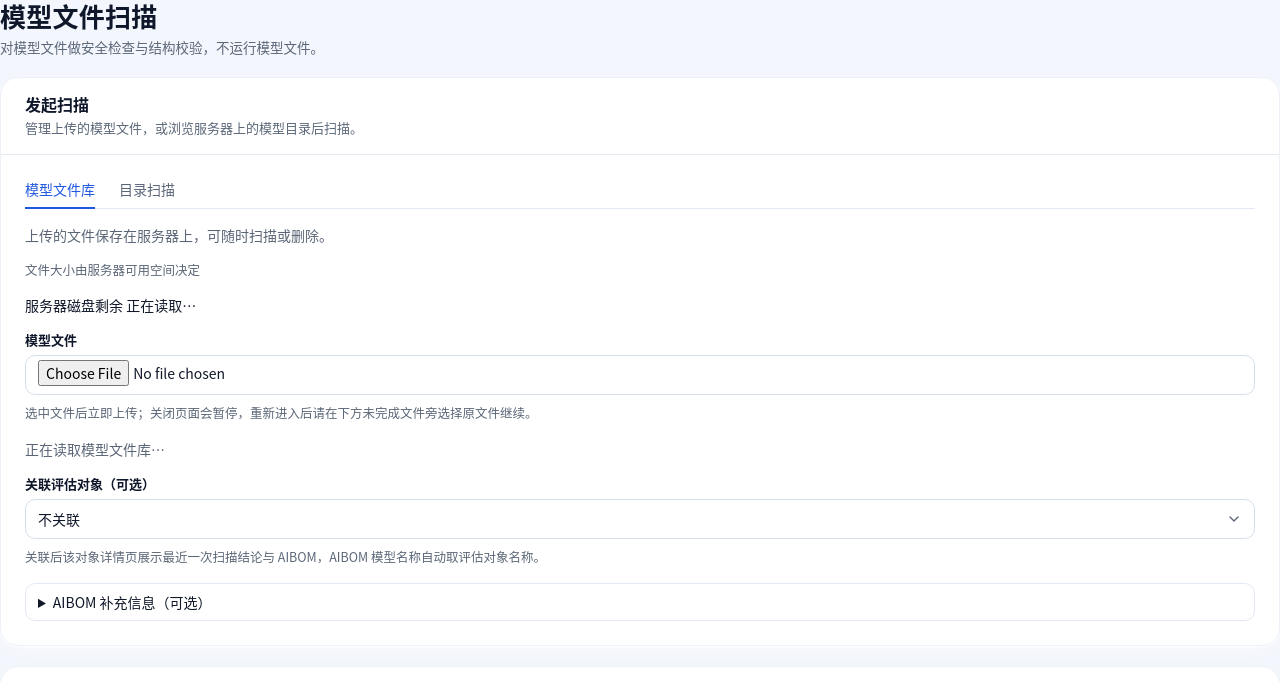
Test: 目录浏览：面包屑 + 列表 › 空目录：说明把模型放到服务器的哪个目录，不出现环境变量名
Click the tab "目录扫描" at (147, 194), box [119,179,175,209]
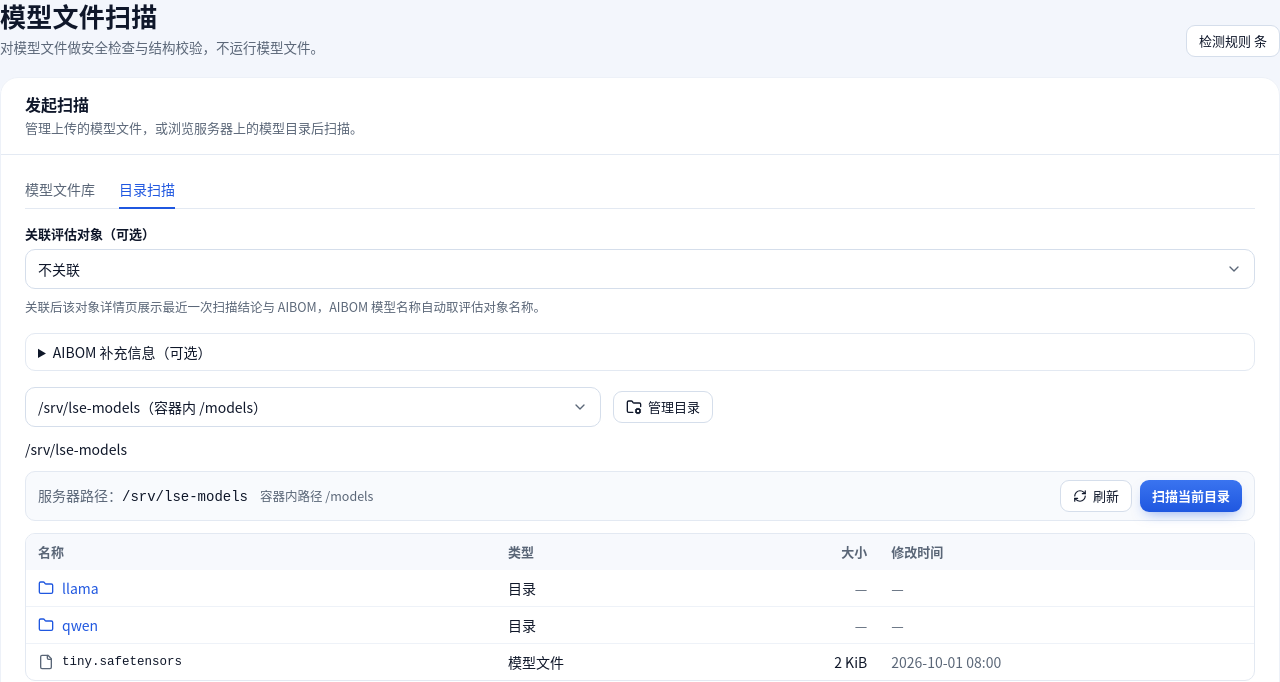
Click the button with aria-label "进入目录 qwen" at (68, 625), box [38,615,98,635]
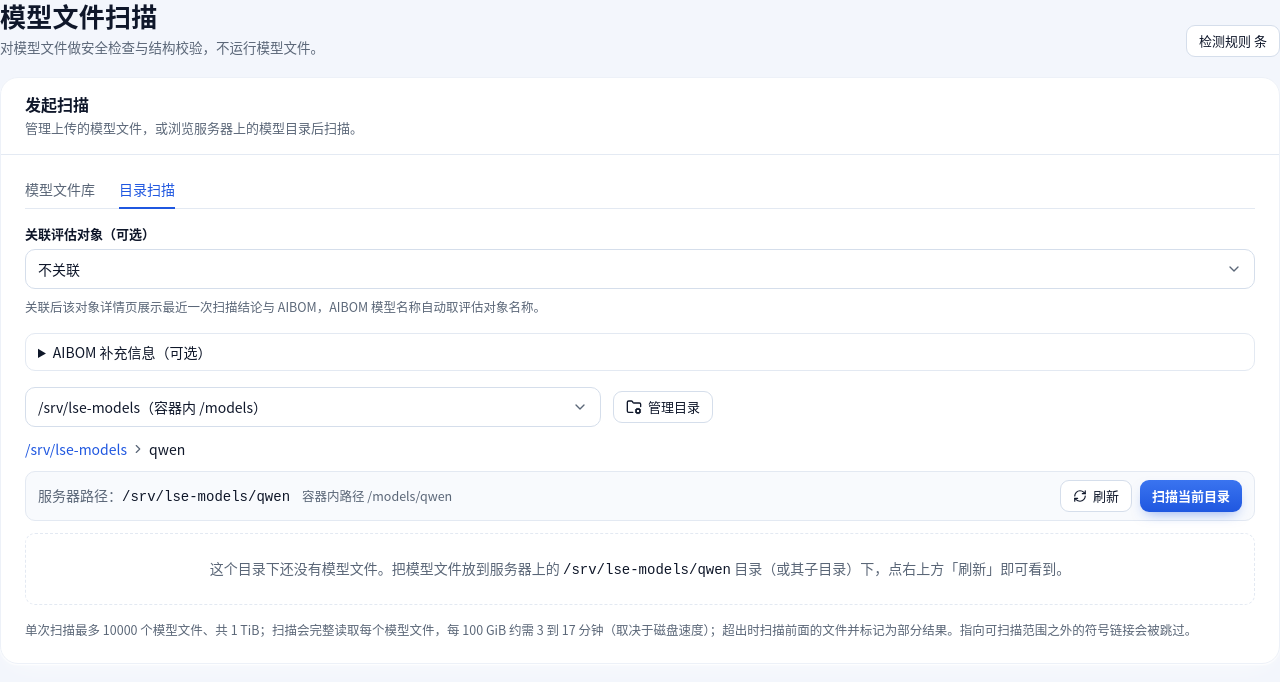
Expected: the element with test id "empty-dir" shows "把模型文件放到服务器上的 /srv/lse-models/qwen 目录", [25,533,1255,605]
Expected: the element with test id "empty-dir" shows "刷新", [734,558,1070,578]
